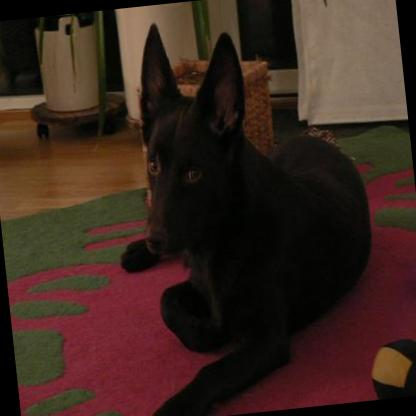kelpie: (93, 0, 391, 416)
